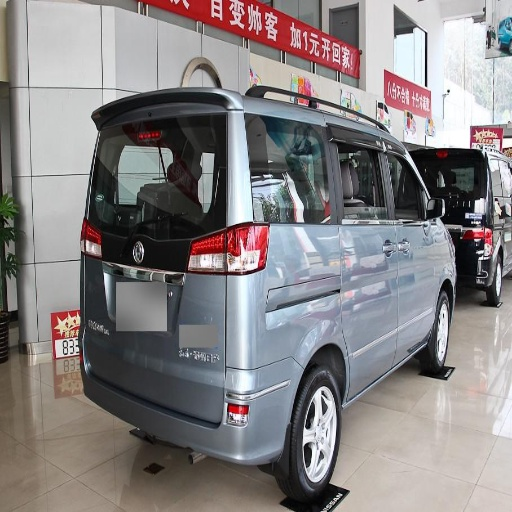back_bumper: (94, 358, 302, 465)
back_glass: (98, 124, 226, 221)
back_left_door: (395, 196, 438, 348)
back_right_door: (328, 141, 384, 216)
trunk: (89, 226, 335, 410)
